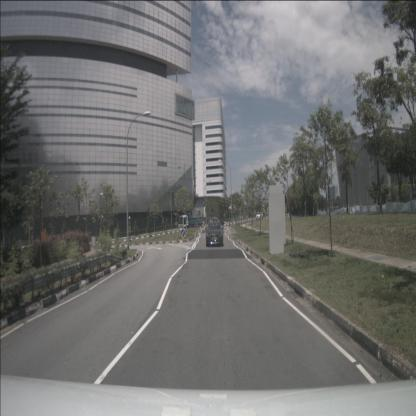vehicle-car: (206, 221, 223, 247), (212, 217, 219, 229), (256, 212, 263, 220), (217, 219, 224, 226)
vehicle-truck: (178, 206, 206, 230)
